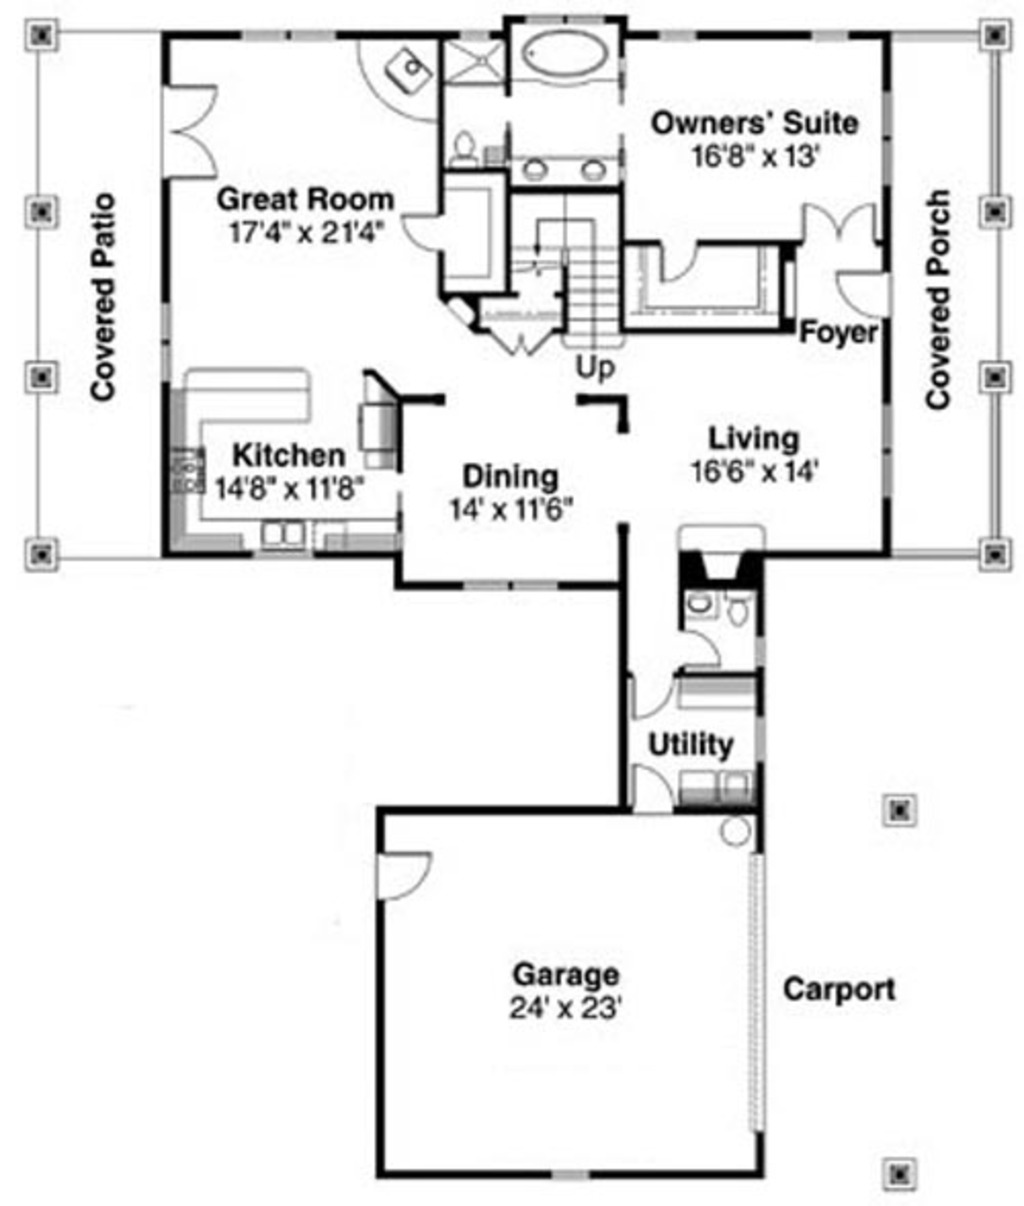door: (152, 79, 226, 186), (801, 194, 896, 258), (386, 196, 454, 267), (652, 226, 724, 290), (364, 848, 439, 901), (626, 756, 681, 824), (837, 271, 898, 330), (488, 318, 567, 360), (620, 665, 673, 722), (677, 631, 724, 671)
large_sink: (441, 116, 490, 169), (722, 588, 769, 641)
small_sink: (518, 133, 618, 188), (692, 590, 718, 624)
stairs: (507, 192, 630, 345)
tub: (522, 26, 622, 84)
twin_sink: (250, 509, 324, 560)
window: (867, 92, 901, 194), (147, 292, 186, 382), (871, 399, 903, 497), (218, 28, 347, 45), (543, 1163, 615, 1188), (796, 22, 860, 45), (654, 27, 697, 40)
